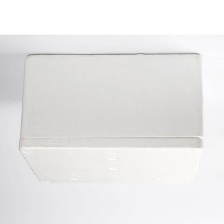foam_box: (11, 46, 211, 192)
